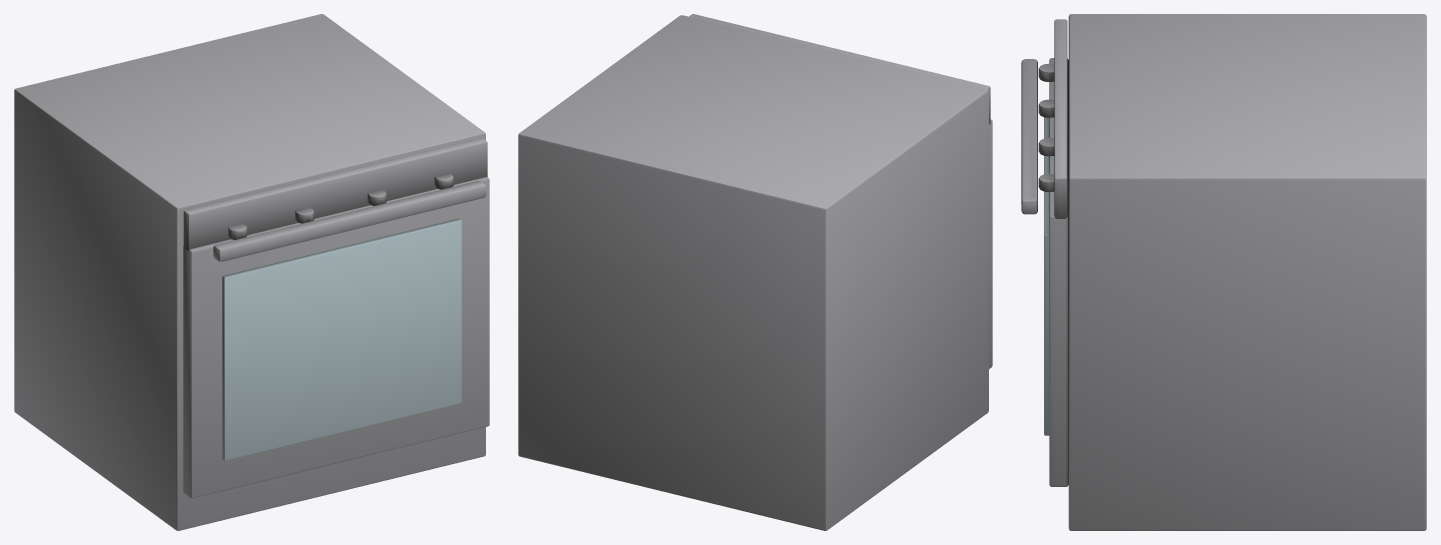
File: oven_builtin.glb
The picture shows the model from 3 angles, left to right: view 1: azimuth 30°, elevation 25°; view 2: azimuth 150°, elevation 25°; view 3: azimuth 270°, elevation 25°; orthographic projection. The views are drawn at different scales.
Visible parts, largest first — view 1: oven_builtin; view 2: oven_builtin; view 3: oven_builtin.
Boxes of the visible parts, x1=… form: oven_builtin: x1=14, y1=14, x2=489, y2=530; oven_builtin: x1=518, y1=14, x2=992, y2=530; oven_builtin: x1=1021, y1=14, x2=1426, y2=530.
Bounding box in the file's own units: 0.6 × 0.6 × 0.623.
